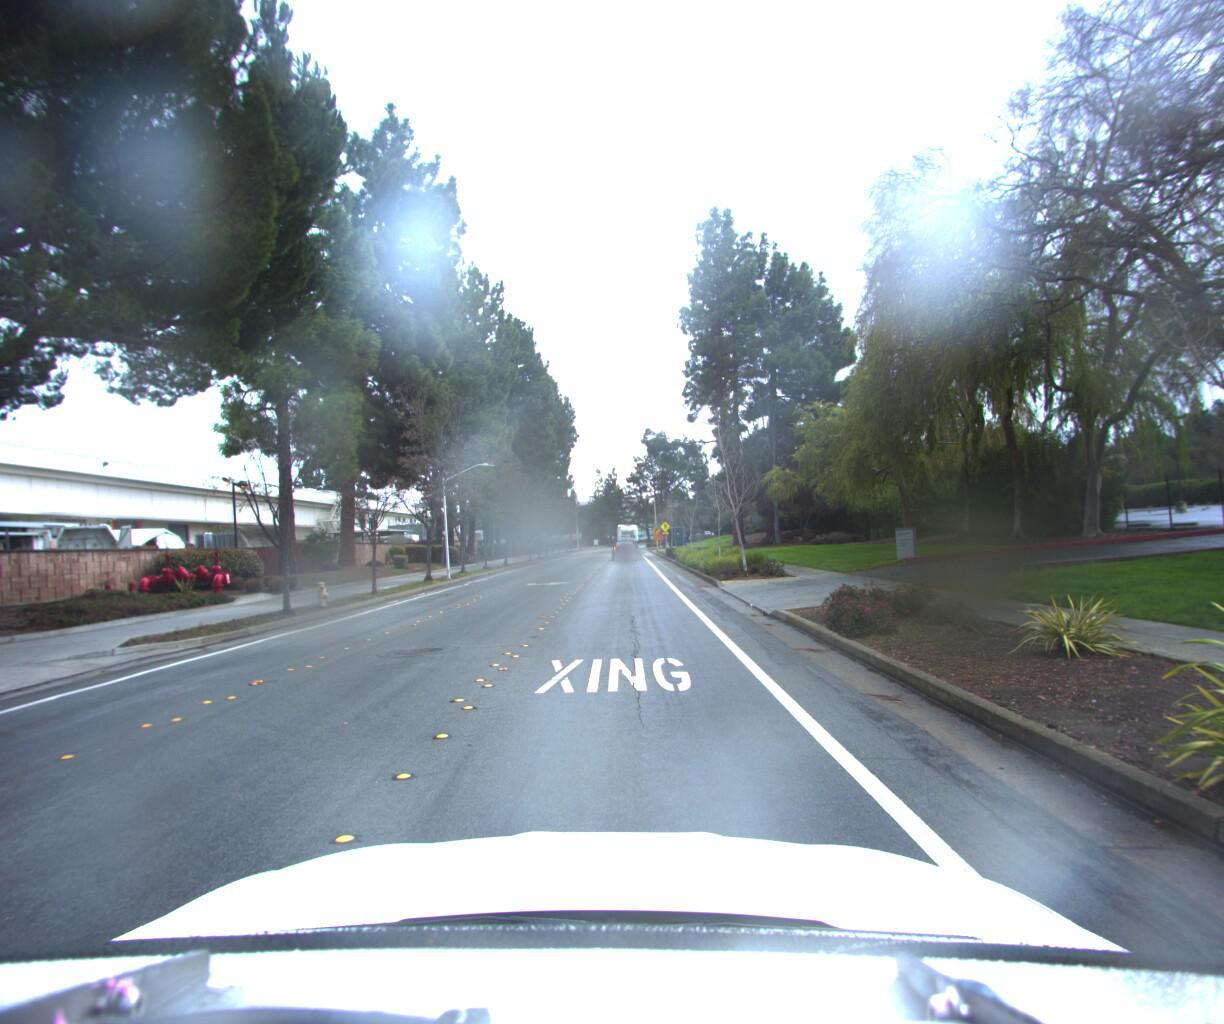car: (610, 539, 638, 564)
